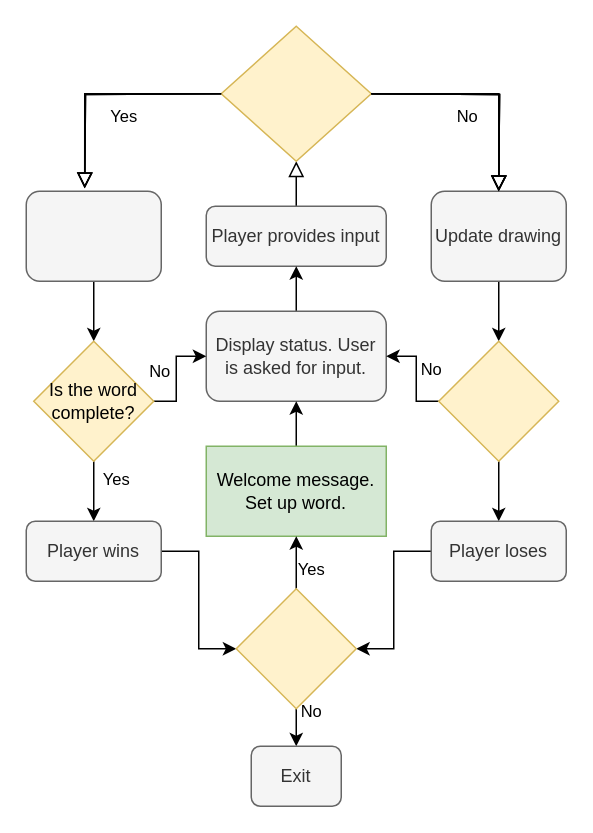
This 593x833 diagram has some shape labels left out. Here are the shapes that lost their labels. From the top down, the box of each, then its label:
(220, 25, 371, 161): Does letter exist in word?
(25, 190, 161, 281): Update word with letters
(437, 340, 559, 461): Is player hanged?
(235, 587, 356, 709): Play again?
